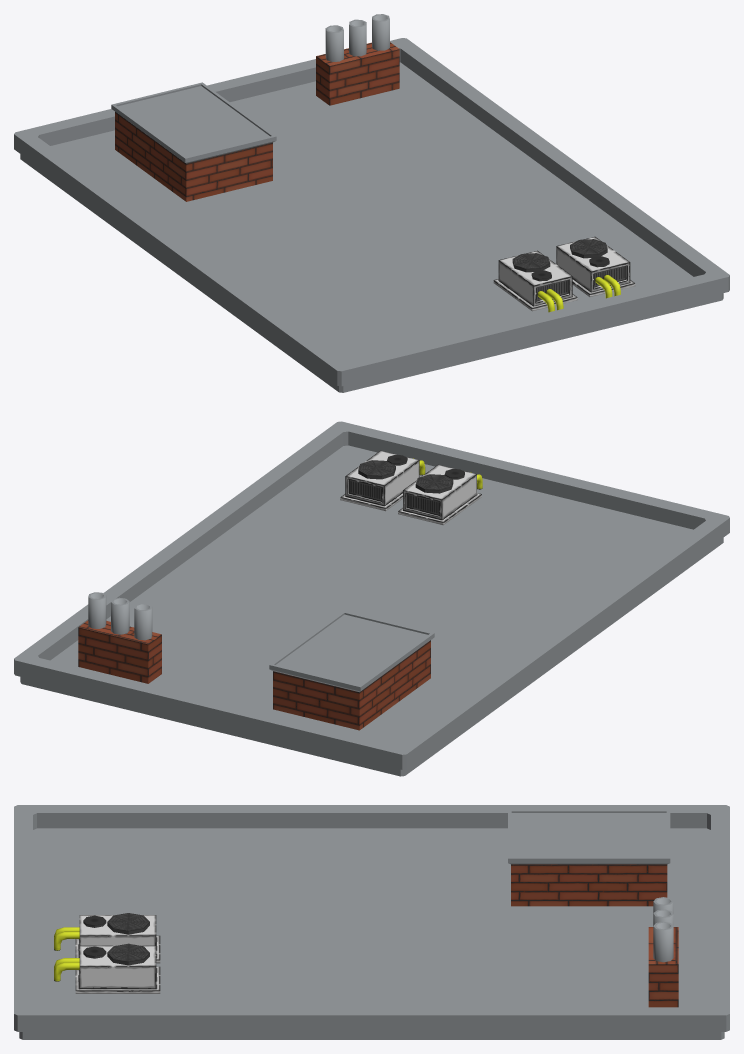
File: House01_Roof.fbx
3 renders of one model, top to bottom at view 1: azimuth 30°, elevation 25°; view 2: azimuth 150°, elevation 25°; view 3: azimuth 270°, elevation 25°, orthographic. The views are drawn at different scales.
Visible parts, largest first — view 1: Plane.030; view 2: Plane.030; view 3: Plane.030.
Boxes of the visible parts, x1,y1,x2,y2 form: Plane.030: (14,14,729,392); Plane.030: (14,421,729,776); Plane.030: (14,805,729,1039).
Bounding box in the file's own units: 682 × 131 × 982.
